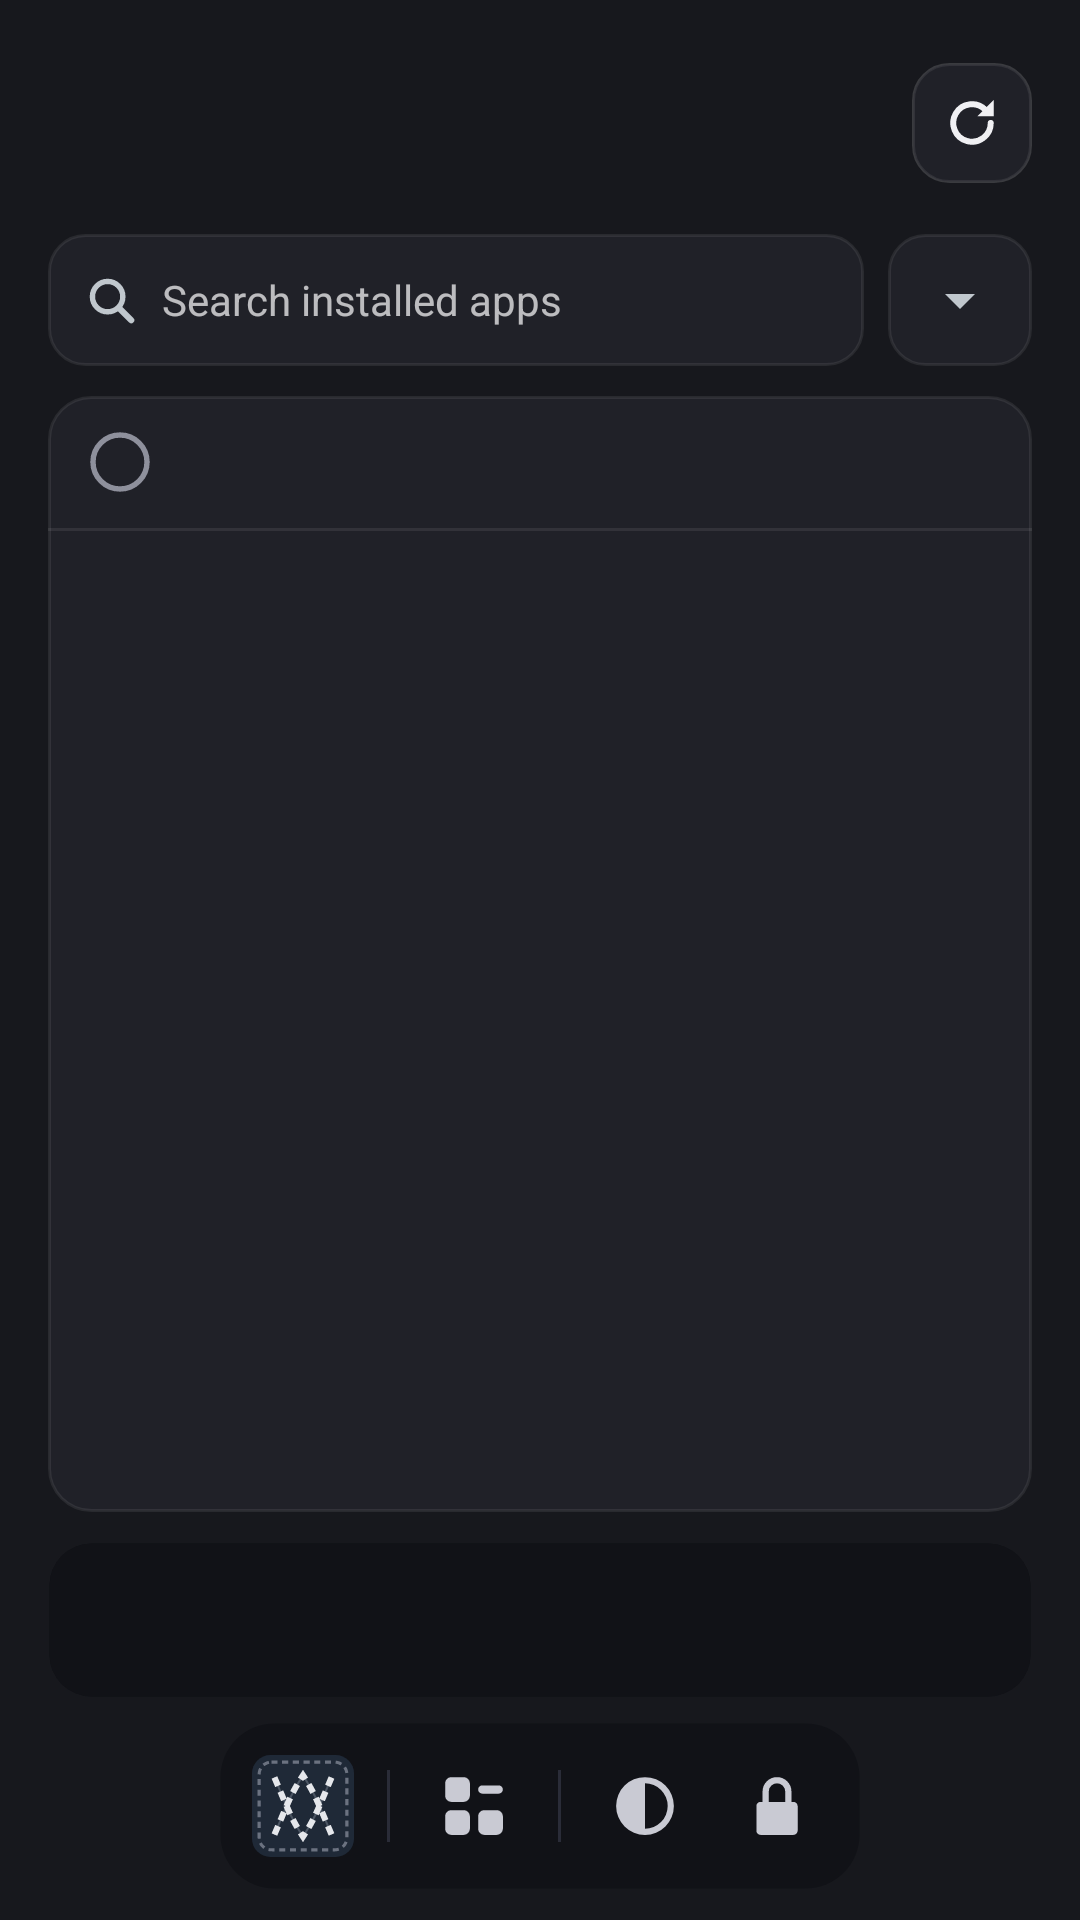

Named icons in this screenshot (1080 × 1920) and their centers, (x=x, y=y):
Theme: (x=645, y=1806)
